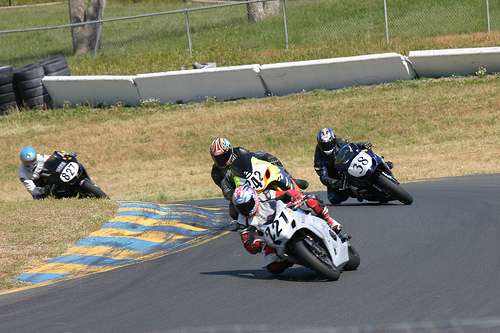helmet: (208, 140, 235, 165), (317, 130, 336, 150), (19, 150, 38, 164)
